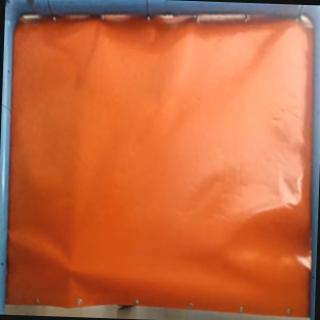Hit-hRxx: (60, 259, 78, 277)
